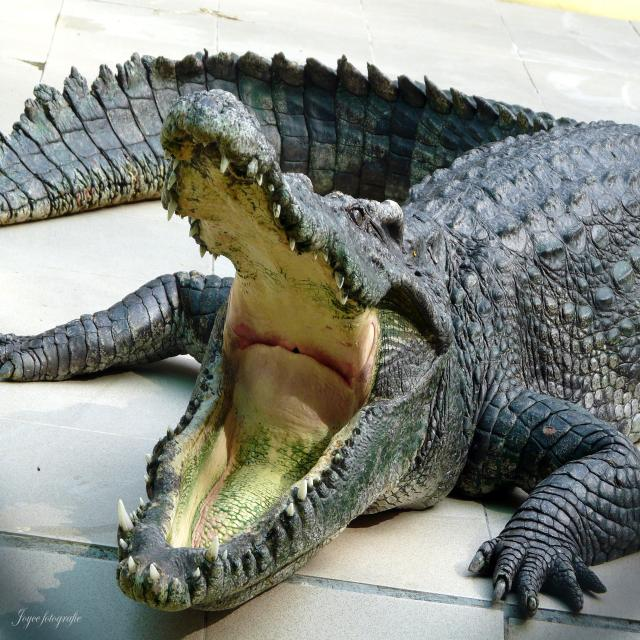crocodile: (0, 48, 640, 622)
